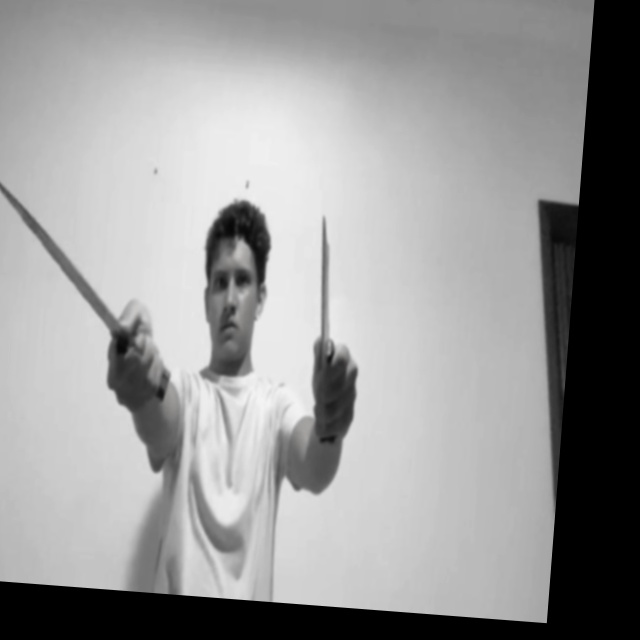Sharp-Object: (0, 178, 132, 336), (312, 217, 342, 357)
